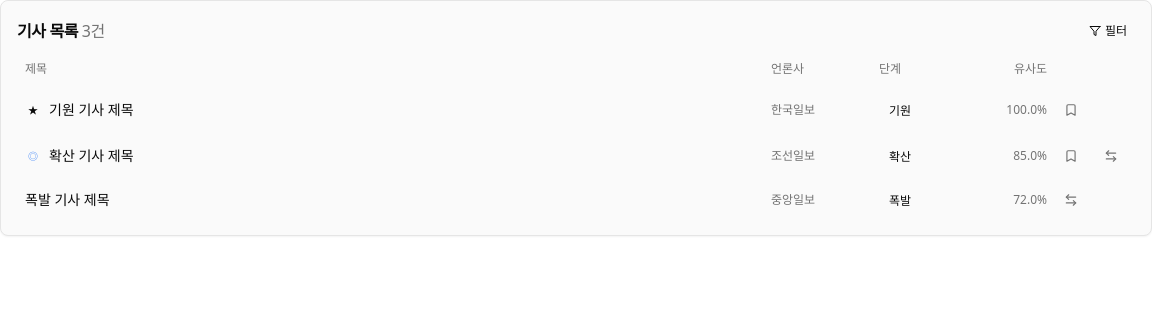
ArticleList › filters by lifecycle stage
Open filter
Click the button "필터" at (1108,31), box x1=1081 y1=17 x2=1135 y2=45
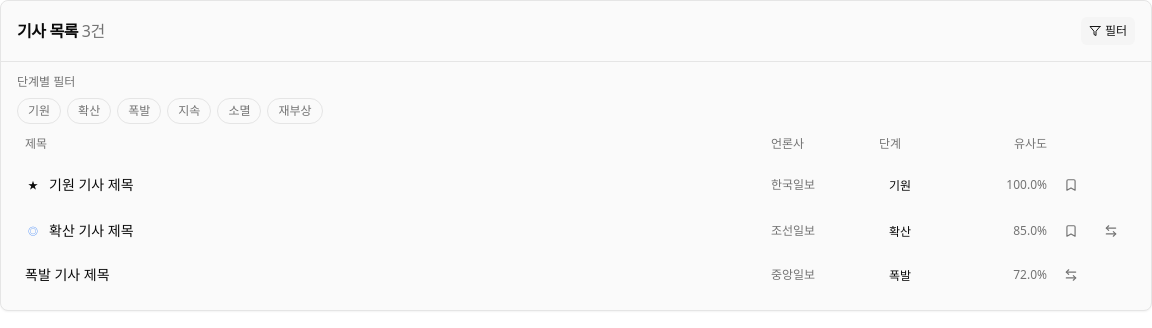
Click the button "기원" at (39,111), box x1=17 y1=98 x2=61 y2=124
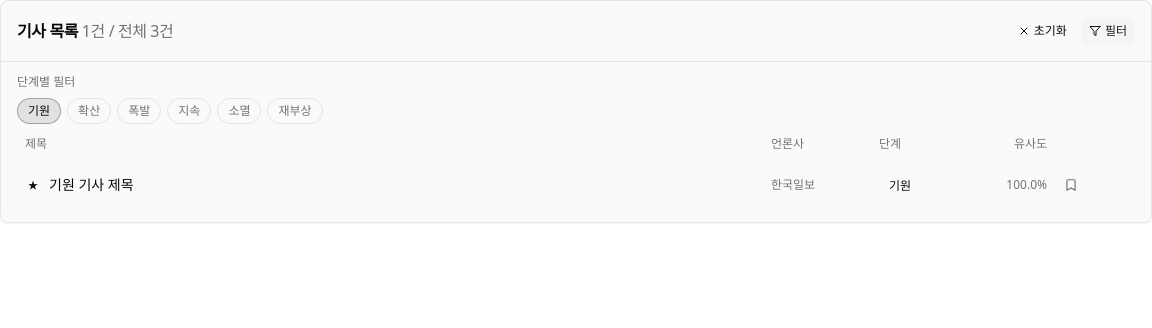
Check: the text "1건 / 전체 3건" is shown, box x1=82 y1=20 x2=173 y2=42
